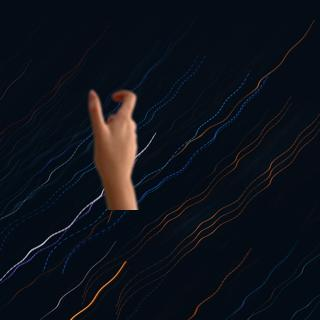HATE: (84, 85, 143, 203)
